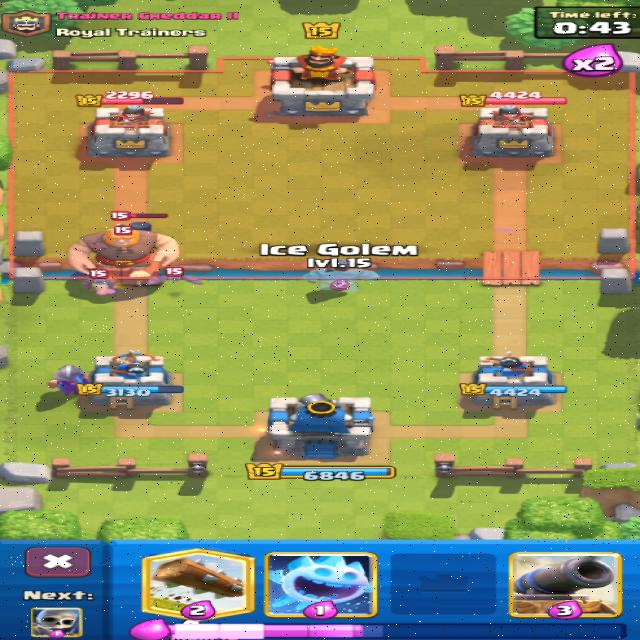Enemy-Bat: (149, 267, 201, 285), (83, 270, 114, 295)
Enemy-Giant: (67, 225, 179, 276)
Enemy-KingTower: (271, 45, 373, 115)
Enemy-NightWitch: (111, 211, 166, 230)
Enemy-PrincessTower: (472, 105, 553, 158), (89, 105, 168, 156)
Player-KingTower-Activated: (268, 394, 373, 459)
Player-Musketeer-Evo: (48, 365, 88, 395), (536, 382, 582, 395)
Player-PrincessTower: (79, 351, 183, 409), (470, 352, 553, 408)
